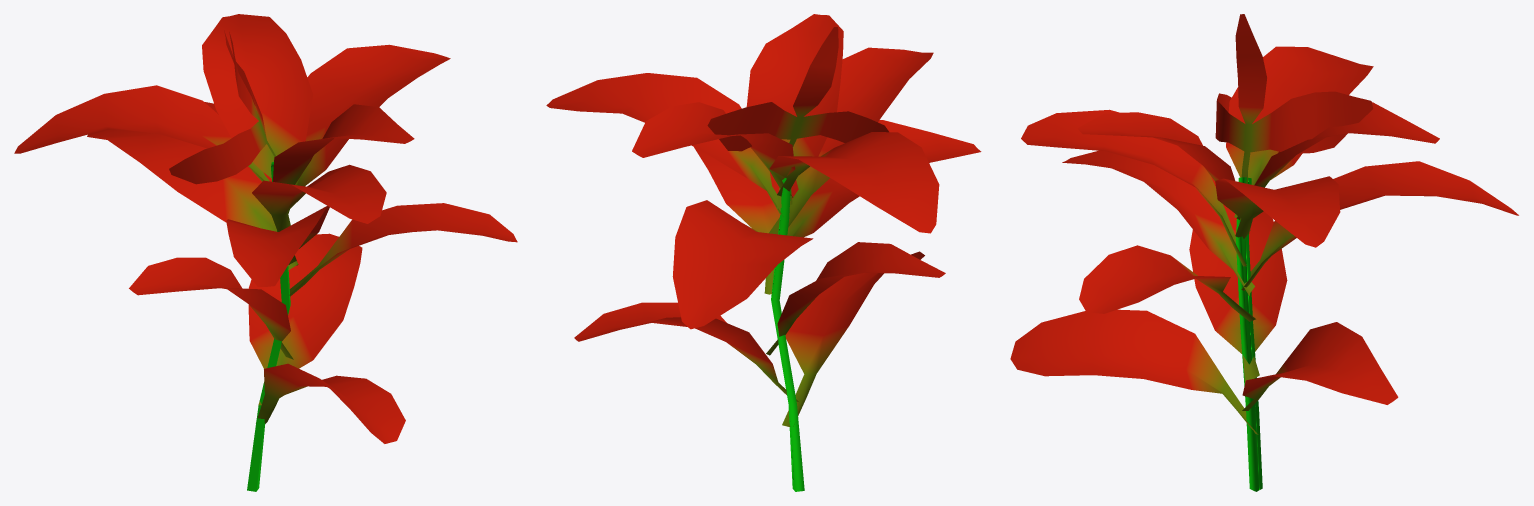
Rendered from Spotted Laurel_LOD0_Var5_sfDik.fbx.
3 renders of one model, left to right at view 1: azimuth 30°, elevation 25°; view 2: azimuth 150°, elevation 25°; view 3: azimuth 270°, elevation 25°, orthographic. The views are drawn at different scales.
Parts seen in each view (by area): view 1: _2ddb_Var5_LOD0; view 2: _2ddb_Var5_LOD0; view 3: _2ddb_Var5_LOD0.
Boxes of the visible parts, left/top/right/bottom form: _2ddb_Var5_LOD0: left=14, top=14, right=517, bottom=491; _2ddb_Var5_LOD0: left=546, top=14, right=981, bottom=491; _2ddb_Var5_LOD0: left=1010, top=14, right=1518, bottom=491.
Bounding box in the file's own units: 23.8 × 26.07 × 26.1.
